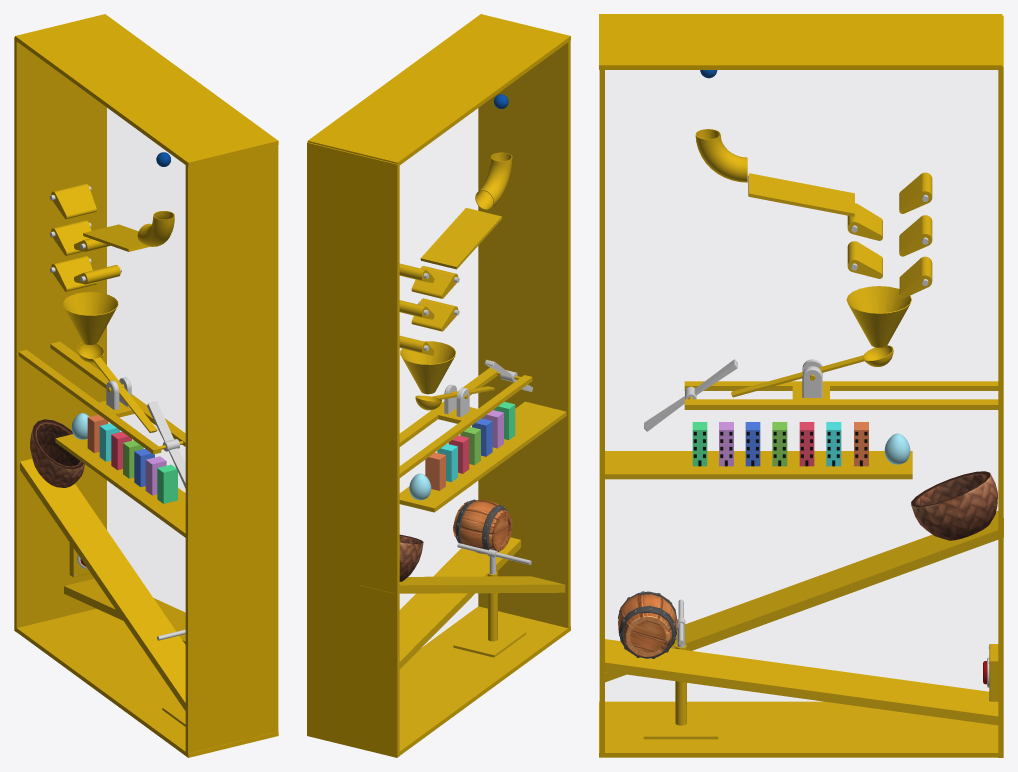
File: Goldberg 1 4.fbx
3 views of the same model, side by side, from view 1: azimuth 30°, elevation 25°; view 2: azimuth 150°, elevation 25°; view 3: azimuth 270°, elevation 25° (orthographic). The views are drawn at different scales.
Visible parts, largest first — view 1: Masina_1_ram, Postolje2, Postolje_za_klackalicu, Postolje1, Korpa, Levak, Postolje3, Kasika_od_klackalice, Fliper4, Dascica_1, Fliper3, Elise (+10 smaller); view 2: Masina_1_ram, Postolje3, Postolje1, Postolje_za_klackalicu, Postolje2, Burence, Dascica_1, Stalak, Levak, Tunel, Fliper, Fliper5 (+11 smaller); view 3: Masina_1_ram, Postolje3, Postolje2, Postolje1, Postolje_za_klackalicu, Korpa, Burence, Levak, Dascica_1, Stalak, Tunel, Kasika_od_klackalice (+13 smaller).
Part boxes in pixels (<box>): Masina_1_ram: <box>14,14,278,757</box>; Postolje2: <box>20,458,185,710</box>; Postolje_za_klackalicu: <box>18,341,185,454</box>; Postolje1: <box>55,434,185,537</box>; Korpa: <box>30,419,84,487</box>; Levak: <box>62,292,118,344</box>; Postolje3: <box>64,578,185,644</box>; Kasika_od_klackalice: <box>77,342,157,432</box>; Fliper4: <box>49,183,96,218</box>; Dascica_1: <box>83,224,149,251</box>; Fliper3: <box>50,256,96,291</box>; Elise: <box>147,401,185,488</box>; Masina_1_ram: <box>307,14,570,757</box>; Postolje3: <box>399,537,520,669</box>; Postolje1: <box>399,401,566,512</box>; Postolje_za_klackalicu: <box>399,367,532,477</box>; Postolje2: <box>360,576,565,593</box>; Burence: <box>453,499,512,554</box>; Dascica_1: <box>420,207,502,269</box>; Stalak: <box>453,571,526,657</box>; Levak: <box>400,341,455,394</box>; Tunel: <box>475,152,512,210</box>; Fliper: <box>411,266,459,298</box>; Fliper5: <box>411,298,459,331</box>; Masina_1_ram: <box>599,14,1003,757</box>; Postolje3: <box>605,639,998,725</box>; Postolje2: <box>605,511,1003,682</box>; Postolje1: <box>605,451,912,479</box>; Postolje_za_klackalicu: <box>684,359,998,409</box>; Korpa: <box>911,471,997,540</box>; Burence: <box>618,591,677,658</box>; Levak: <box>846,286,911,347</box>; Dascica_1: <box>748,173,854,216</box>; Stalak: <box>643,644,718,739</box>; Tunel: <box>695,129,747,182</box>; Kasika_od_klackalice: <box>731,345,893,397</box>.
Bounding box in the file's own units: 7.94 × 49.06 × 25.98.
Materials: 17 (10 with a texture image).
